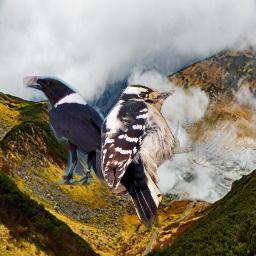Crow: (23, 76, 144, 186)
Woodpecker: (96, 82, 195, 230)
